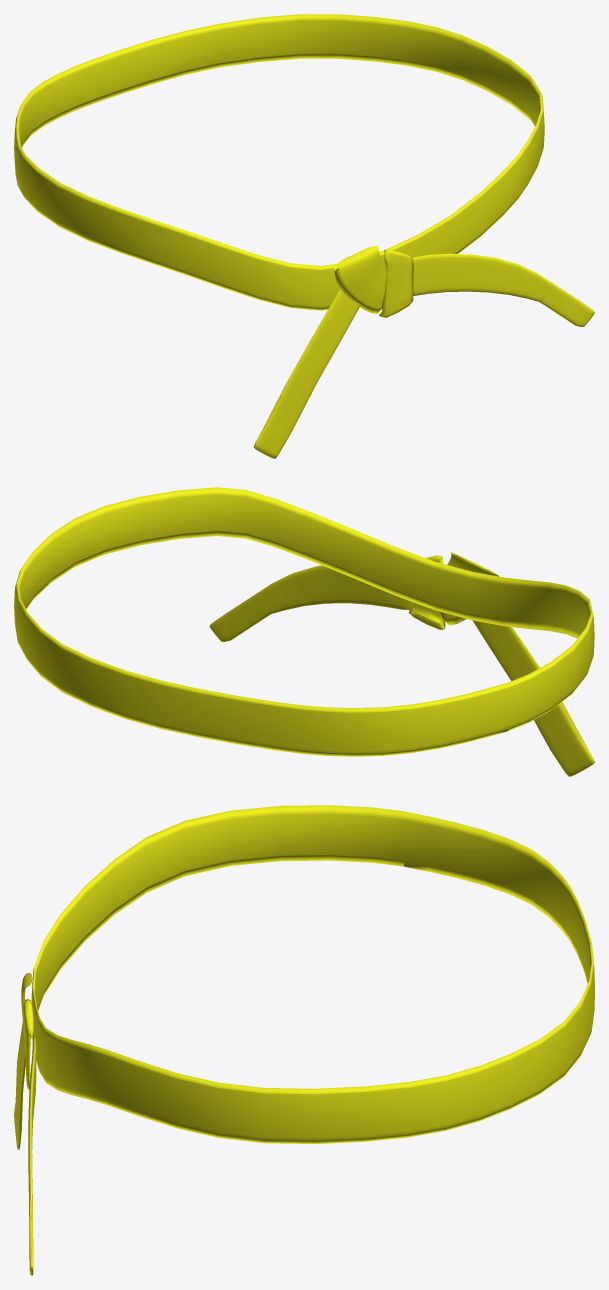
File: TaliSilatYellow 1.fbx
3 renders of one model, top to bottom at view 1: azimuth 30°, elevation 25°; view 2: azimuth 150°, elevation 25°; view 3: azimuth 270°, elevation 25°, orthographic. The views are drawn at different scales.
Parts seen in each view (by area): view 1: Tali; view 2: Tali; view 3: Tali.
Part boxes in pixels (<box>): Tali: <box>14,14,594,458</box>; Tali: <box>14,487,594,776</box>; Tali: <box>14,805,594,1275</box>.
Bounding box in the file's own units: 154 × 69.89 × 132.
